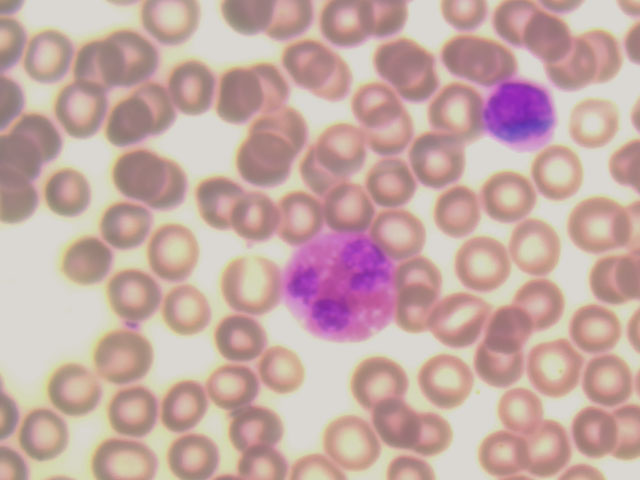RBC: (18, 22, 78, 90), (54, 78, 114, 146), (16, 102, 76, 170), (32, 150, 92, 218), (91, 197, 151, 265), (55, 221, 115, 289), (101, 264, 161, 332), (143, 219, 203, 287), (147, 148, 207, 216), (114, 136, 174, 204), (99, 98, 159, 166), (122, 77, 182, 145), (117, 24, 177, 92), (75, 34, 135, 102), (161, 46, 221, 114), (192, 169, 252, 237), (223, 249, 283, 317), (209, 297, 269, 365), (162, 281, 222, 349), (93, 316, 153, 384), (42, 351, 102, 419), (11, 393, 71, 461), (101, 375, 161, 443), (157, 373, 217, 441), (200, 359, 260, 427), (249, 337, 309, 405), (232, 388, 292, 456), (161, 420, 224, 480), (89, 420, 152, 480), (318, 413, 381, 473), (360, 397, 423, 457), (347, 356, 410, 416), (414, 349, 477, 409), (395, 402, 458, 462), (487, 378, 550, 438), (470, 342, 533, 402), (474, 298, 537, 358), (509, 273, 572, 333), (427, 289, 490, 349), (392, 285, 455, 345), (392, 249, 455, 309), (373, 202, 436, 262), (323, 179, 386, 239), (274, 183, 337, 243), (233, 183, 296, 243), (235, 137, 298, 197), (247, 103, 310, 163), (244, 60, 307, 120), (210, 65, 273, 125), (271, 38, 334, 98), (333, 65, 396, 125), (313, 116, 376, 176), (367, 100, 430, 160), (410, 128, 473, 188), (371, 153, 434, 213), (430, 185, 493, 245), (482, 168, 545, 228), (519, 145, 582, 205), (507, 211, 570, 271), (453, 235, 516, 295), (561, 192, 624, 252), (563, 95, 626, 155), (577, 19, 640, 79), (540, 38, 603, 98), (528, 13, 591, 73), (491, 1, 554, 61), (453, 36, 516, 96), (376, 33, 439, 93), (565, 296, 628, 356), (528, 330, 591, 390), (571, 345, 634, 405), (566, 402, 629, 462), (525, 418, 588, 478), (477, 420, 540, 480), (320, 1, 383, 60)
WBC: (287, 237, 401, 344), (481, 77, 560, 157)
